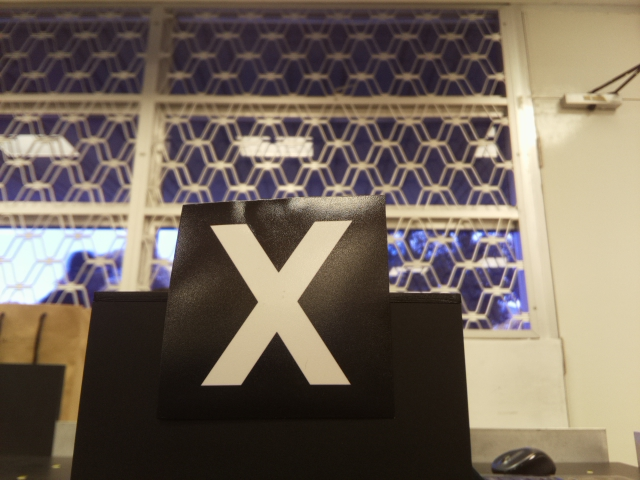x: (192, 217, 354, 397)
